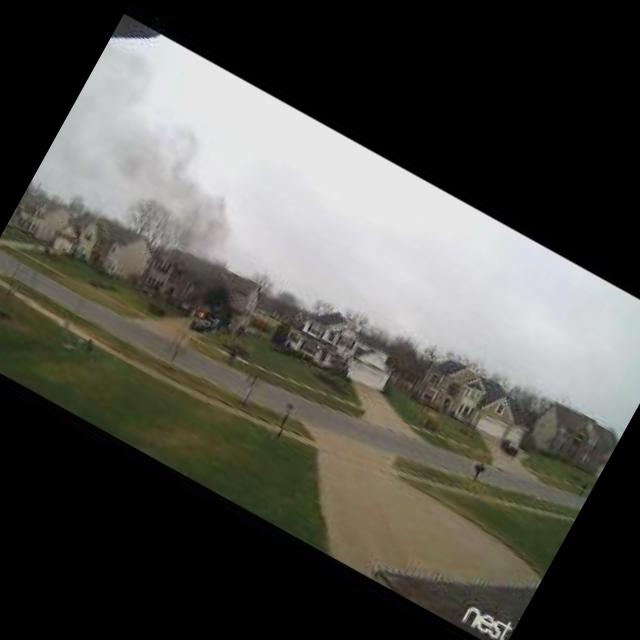fire: (199, 308, 206, 316)
smoke: (32, 48, 280, 276)
